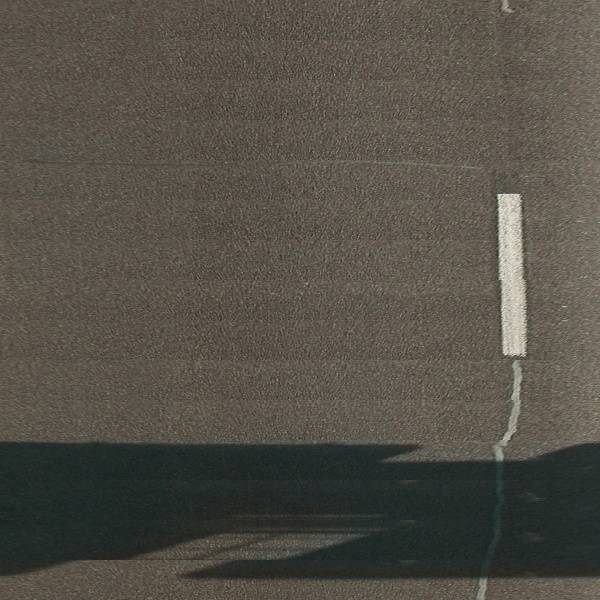road_damage: (469, 359, 527, 600), (263, 154, 486, 171)
